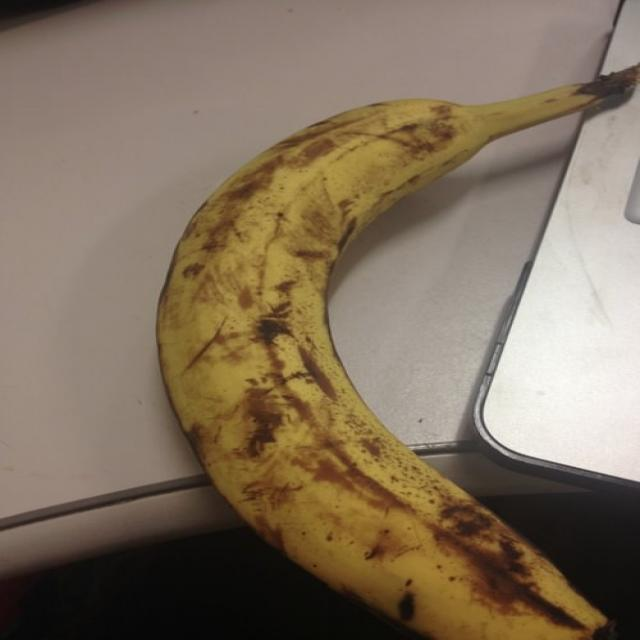Banana: (141, 62, 640, 640)
